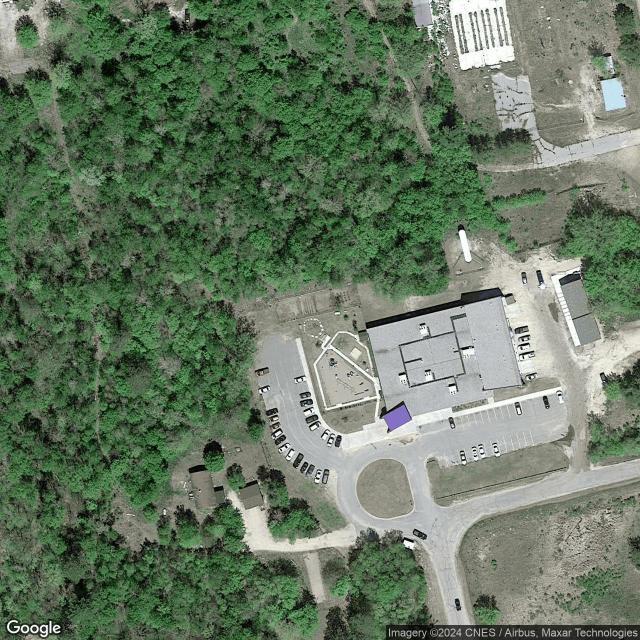Propane: (458, 229, 473, 264), (163, 507, 167, 517)
